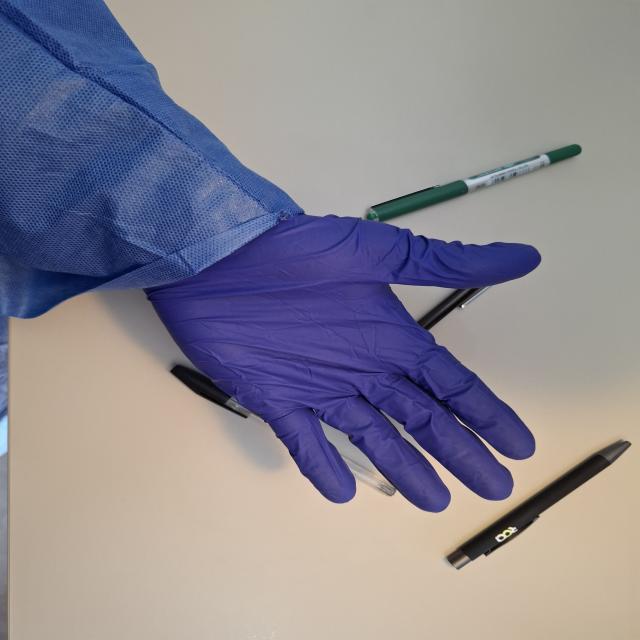glove_on: (137, 208, 544, 516)
